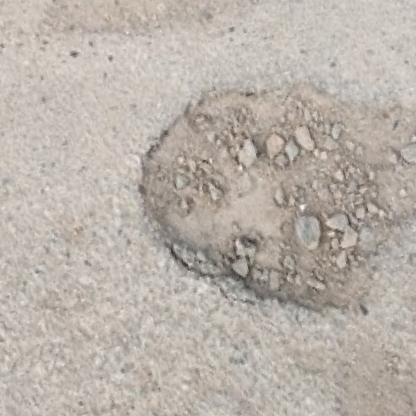pothole: (115, 33, 416, 362)
